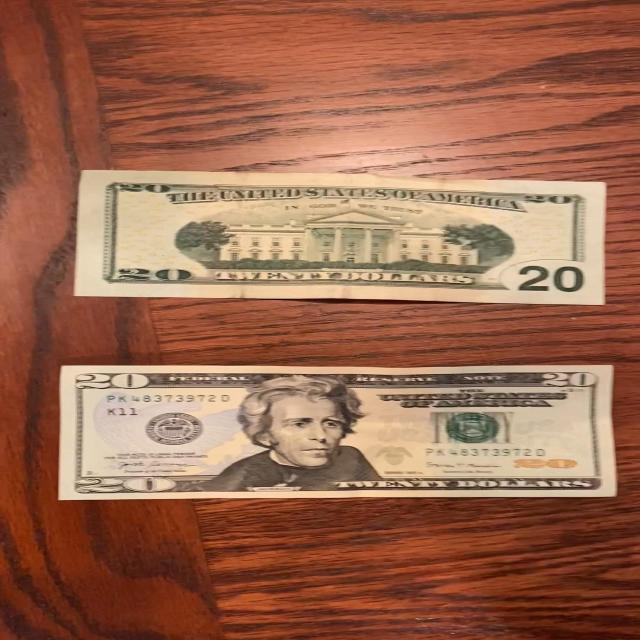20-Back: (65, 168, 618, 308)
20-Front: (48, 358, 622, 508)
